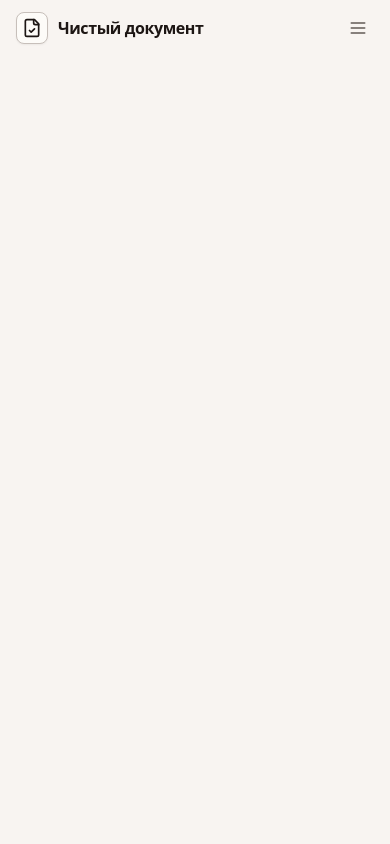
it: Header › opens and closes mobile drawer
Click the button named "открыть меню". click: (358, 28)
box: 342,12 -> 374,44
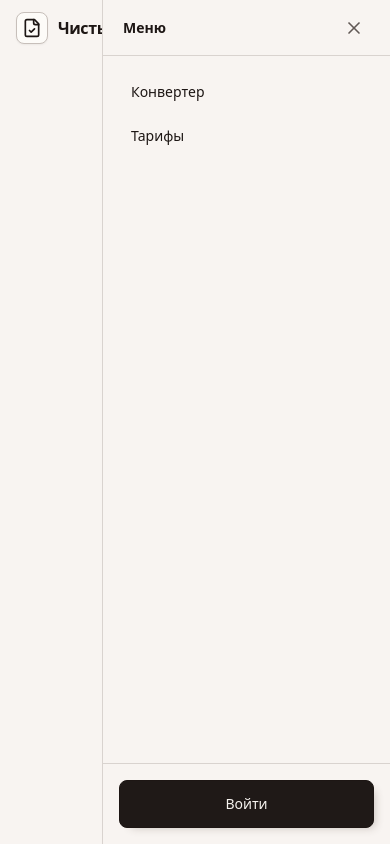
expect the dialog named "Навигация" is shown: met
Click the button named "закрыть меню". click: (354, 28)
box: 338,12 -> 370,44
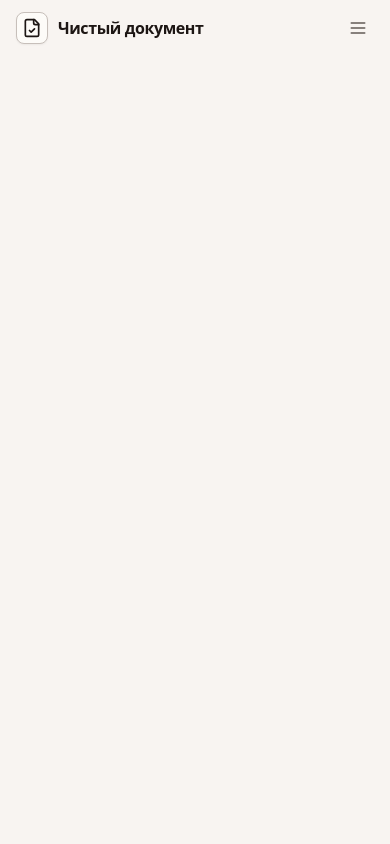
expect the navigation bar "Навигация" is gone: met
